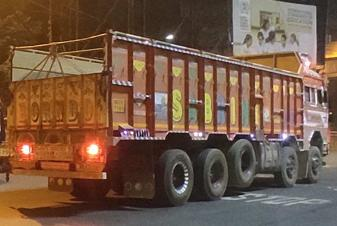Truck: (7, 27, 332, 204)
